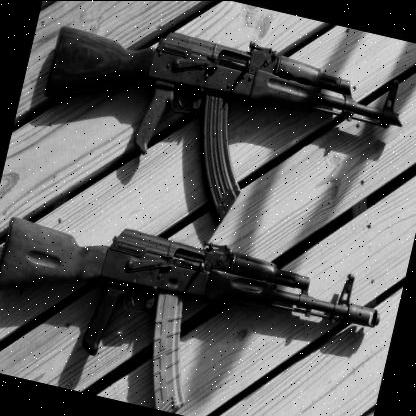rifle: (21, 0, 416, 257), (0, 179, 392, 416)
